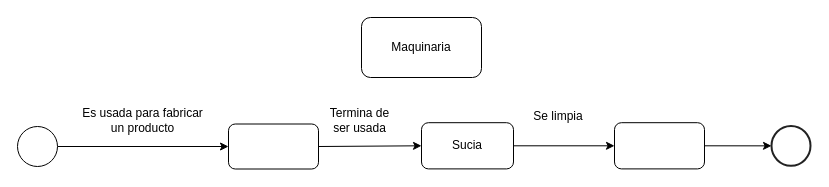
Some shapes in this 829 by 187 pixel diagram are drawn without their labels. Here are the shapes that lost their labels. From the top down, the centre of each, then its label:
the point at 273,146: En curso
the point at 659,145: Limpia
